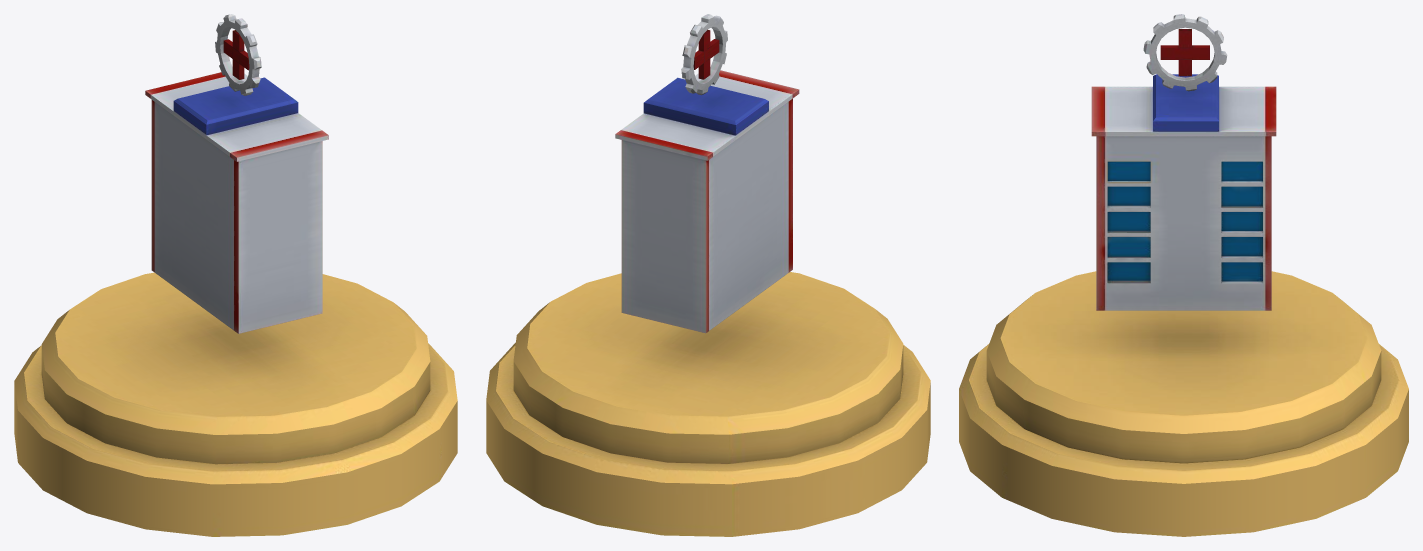
Rendered from HOSPITALOURO.fbx.
The picture shows the model from 3 angles, left to right: view 1: azimuth 30°, elevation 25°; view 2: azimuth 150°, elevation 25°; view 3: azimuth 270°, elevation 25°; orthographic projection.
Parts seen in each view (by area): view 1: polySurface6, polySurface7; view 2: polySurface6, polySurface7; view 3: polySurface6, polySurface7.
Boxes of the visible parts, left/top/right/bottom form: polySurface6: left=14, top=272, right=457, bottom=536; polySurface7: left=145, top=14, right=328, bottom=333; polySurface6: left=486, top=272, right=930, bottom=536; polySurface7: left=615, top=14, right=799, bottom=333; polySurface6: left=959, top=271, right=1408, bottom=536; polySurface7: left=1091, top=14, right=1276, bottom=310.
Size of the model in its own units: 0.4773 by 0.5017 by 0.4773.
1 material, 1 textured.
